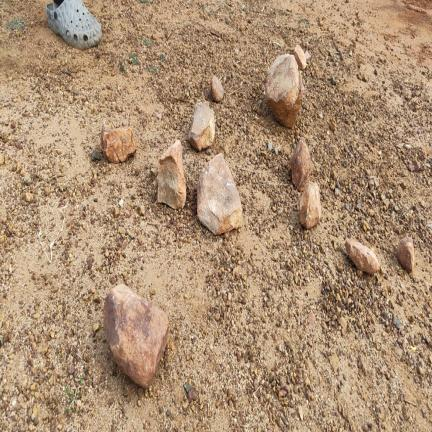Rocks: (104, 285, 168, 387), (197, 154, 242, 234), (266, 55, 304, 127), (158, 141, 186, 209), (101, 124, 136, 163), (189, 102, 215, 151), (346, 238, 380, 274), (289, 138, 311, 191), (300, 182, 321, 229), (398, 237, 414, 272), (211, 76, 223, 102), (294, 45, 306, 70), (329, 355, 339, 373), (91, 150, 101, 162), (340, 317, 346, 335), (298, 406, 304, 421), (24, 173, 31, 185), (25, 192, 33, 202), (0, 154, 4, 165), (157, 113, 162, 120)
